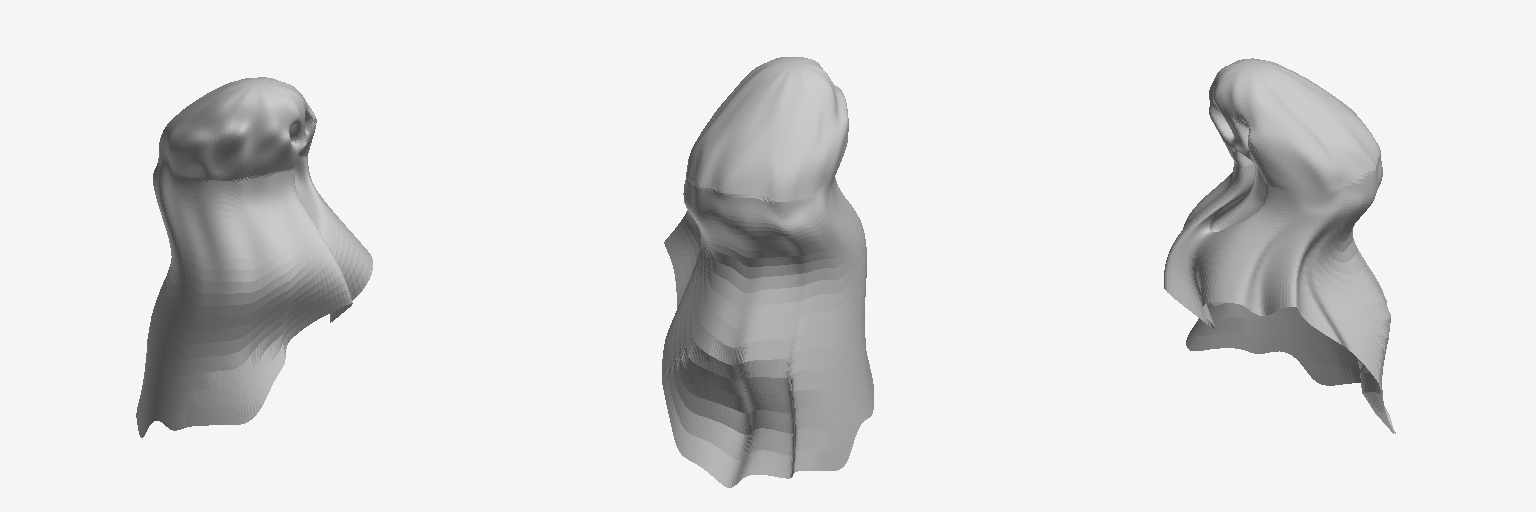
Rendered from ghost_000016.obj.
3 views of the same model, side by side, from view 1: azimuth 30°, elevation 25°; view 2: azimuth 150°, elevation 25°; view 3: azimuth 270°, elevation 25° (orthographic).
Parts seen in each view (by area): view 1: 球体; view 2: 球体; view 3: 球体.
Part boxes in pixels (x1,y1,x2,y2): 球体: (136,77,372,437); 球体: (662,57,873,487); 球体: (1164,58,1395,433).
Size of the model in its own units: 8.62 by 15.89 by 8.99.